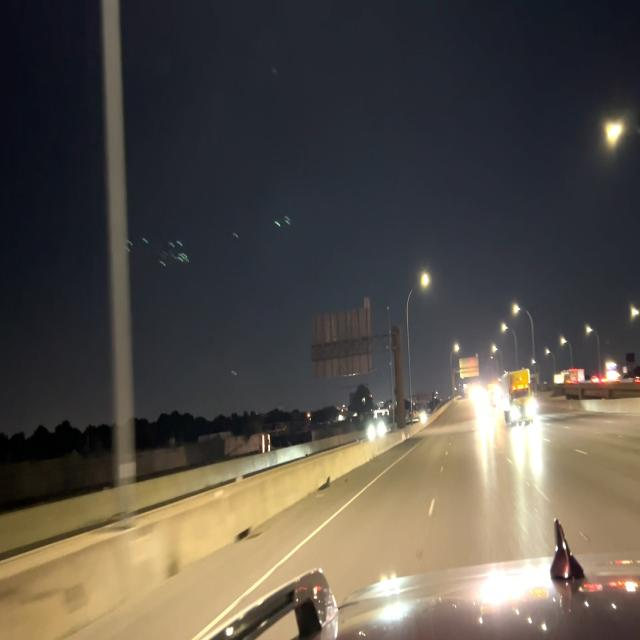back-of-sign: (310, 301, 374, 378), (458, 351, 481, 382)
